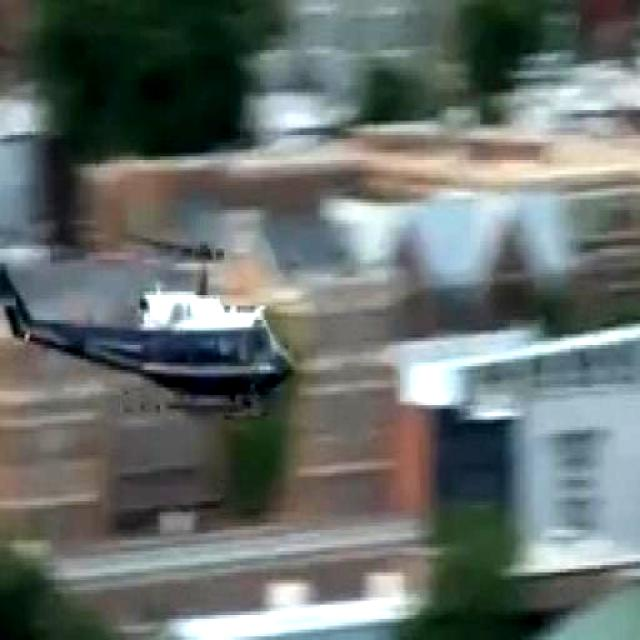drone: (0, 214, 308, 432)
